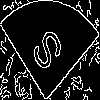S: (25, 25, 66, 81)
